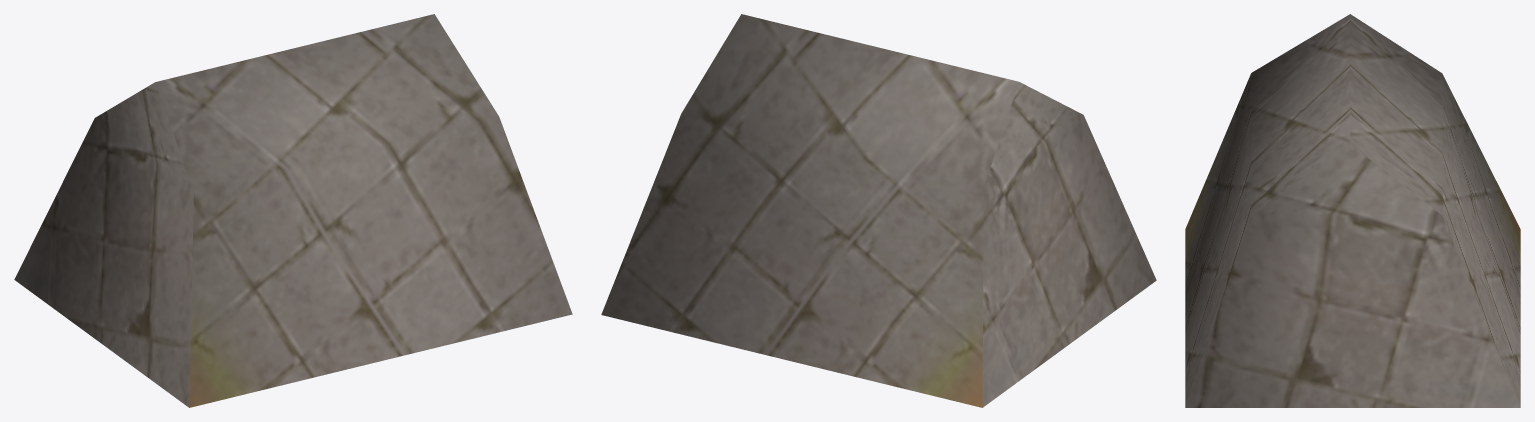
The model's file is map_plain_road12.FBX.
3 views of the same model, side by side, from view 1: azimuth 30°, elevation 25°; view 2: azimuth 150°, elevation 25°; view 3: azimuth 270°, elevation 25° (orthographic). The views are drawn at different scales.
Visible parts, largest first — view 1: Object02; view 2: Object02; view 3: Object02.
Boxes of the visible parts, <box> form: Object02: <box>14,14,572,407</box>; Object02: <box>601,14,1156,407</box>; Object02: <box>1185,14,1520,407</box>.
Size of the model in its own units: 2.16 by 1.35 by 1.71.
